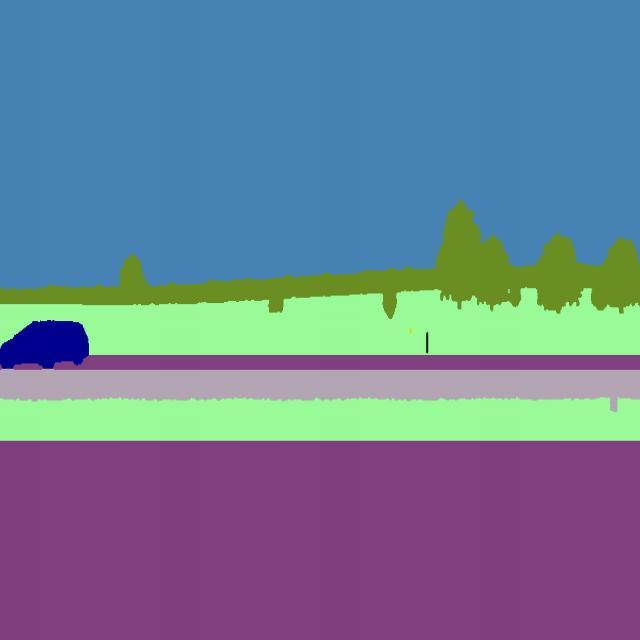safe: (0, 318, 95, 371)
